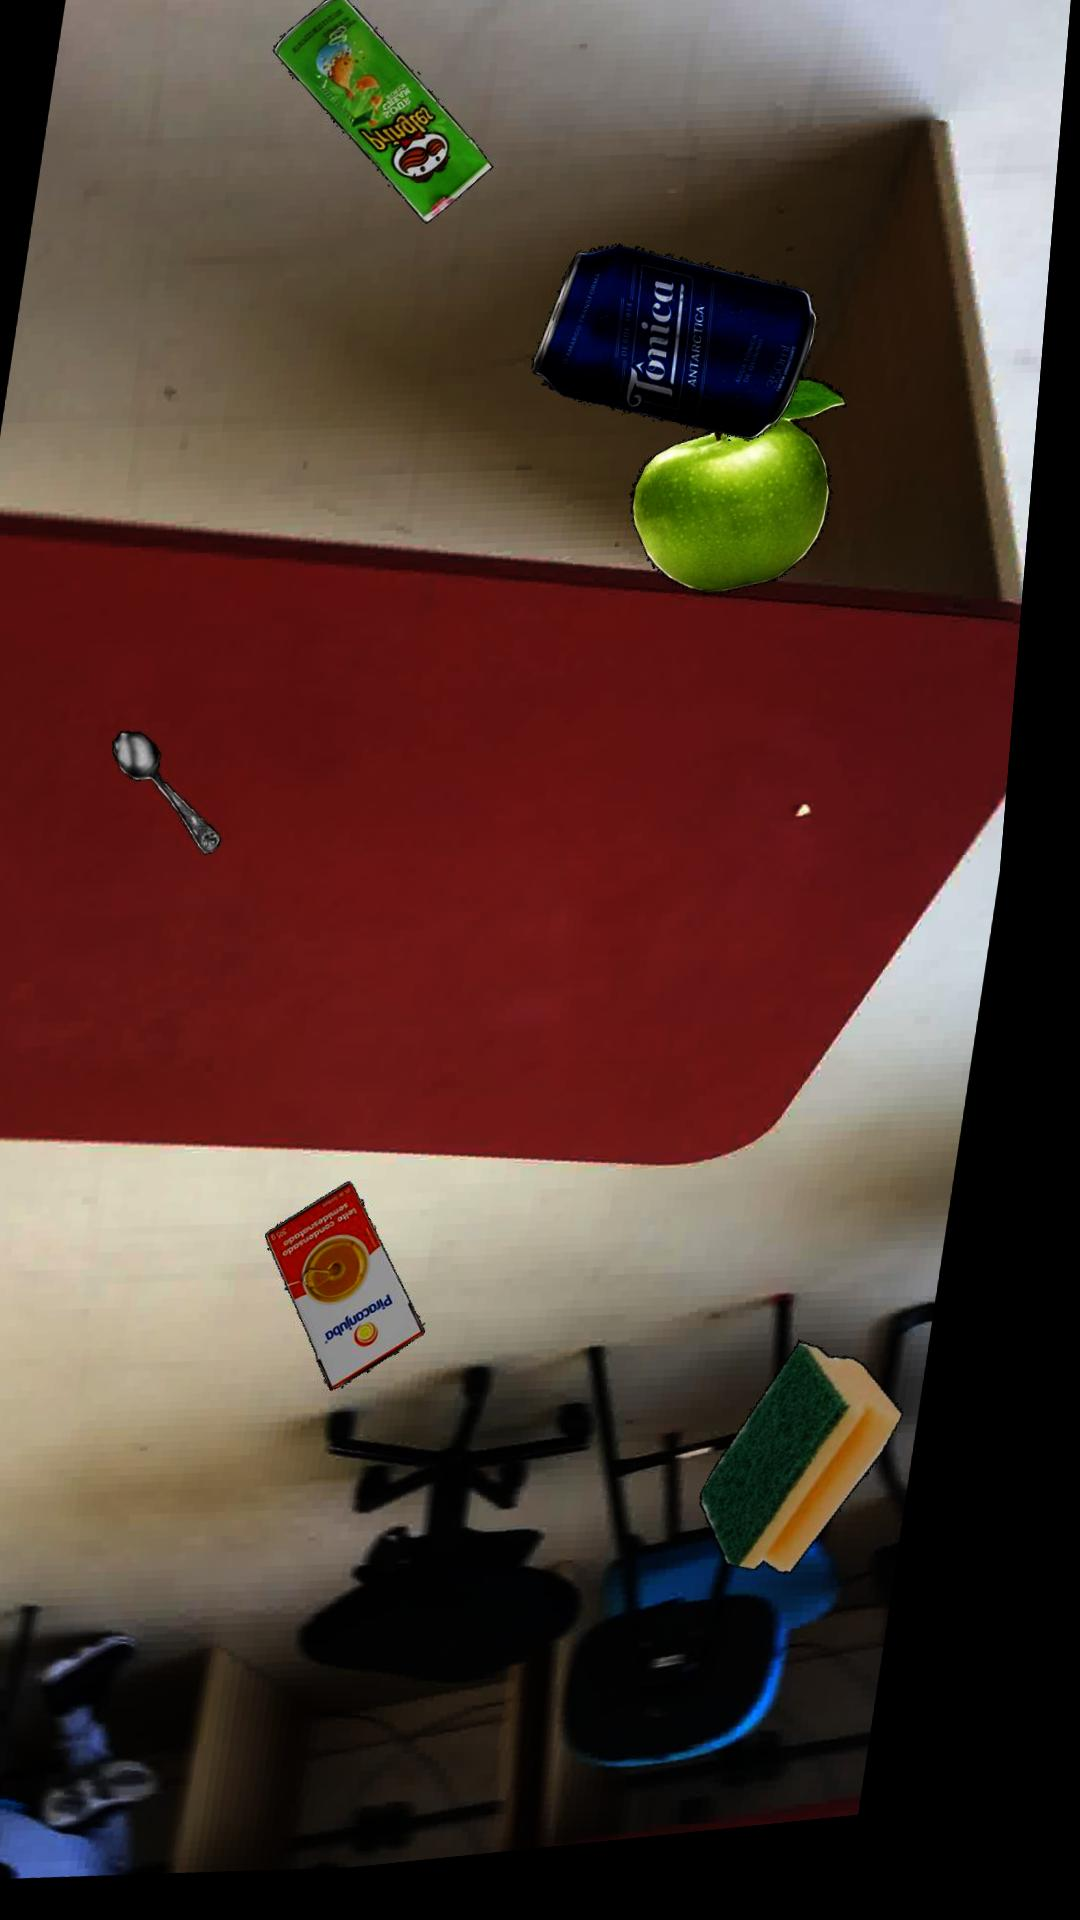green apple: (637, 396, 853, 612)
pringles: (272, 3, 495, 235)
sponge: (725, 1361, 927, 1596)
spoon: (124, 737, 233, 862)
tonic: (537, 260, 823, 459)
